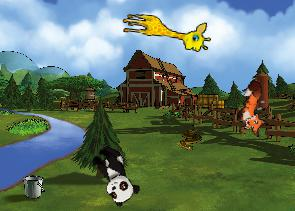fox: (230, 78, 281, 139)
giraffe: (119, 12, 212, 53)
panda: (85, 141, 143, 208)
